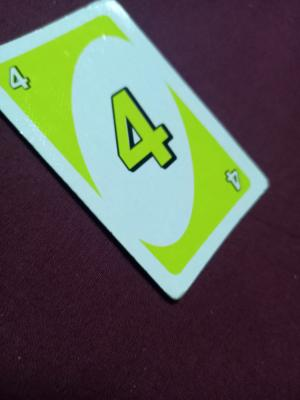num_4: (100, 69, 182, 191), (9, 46, 79, 107)
yellow: (203, 149, 243, 216)
